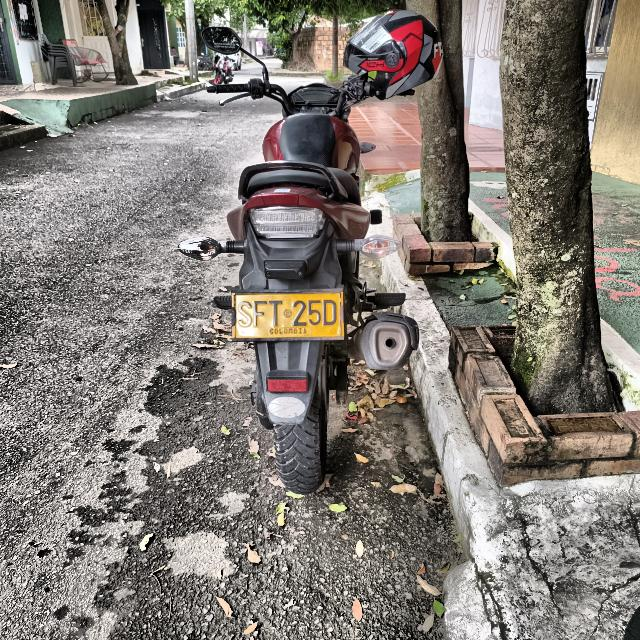plate: (232, 291, 342, 339)
